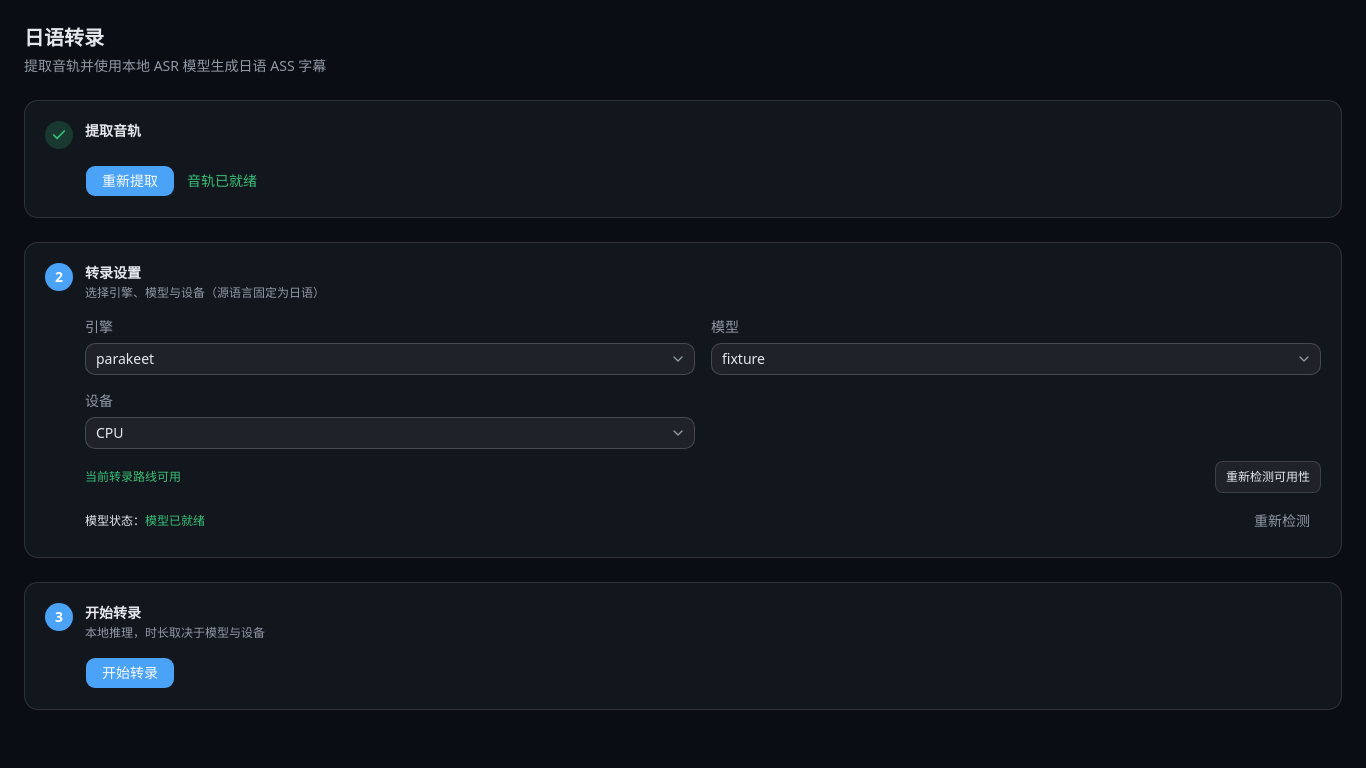
Scenario: TranscribeView Native ASR flow › installs and serializes completed parakeet results with VAD=false and its own display policy
Step 1. Click the button "开始转录" → {"x": 130, "y": 673}, box [85,657,175,689]
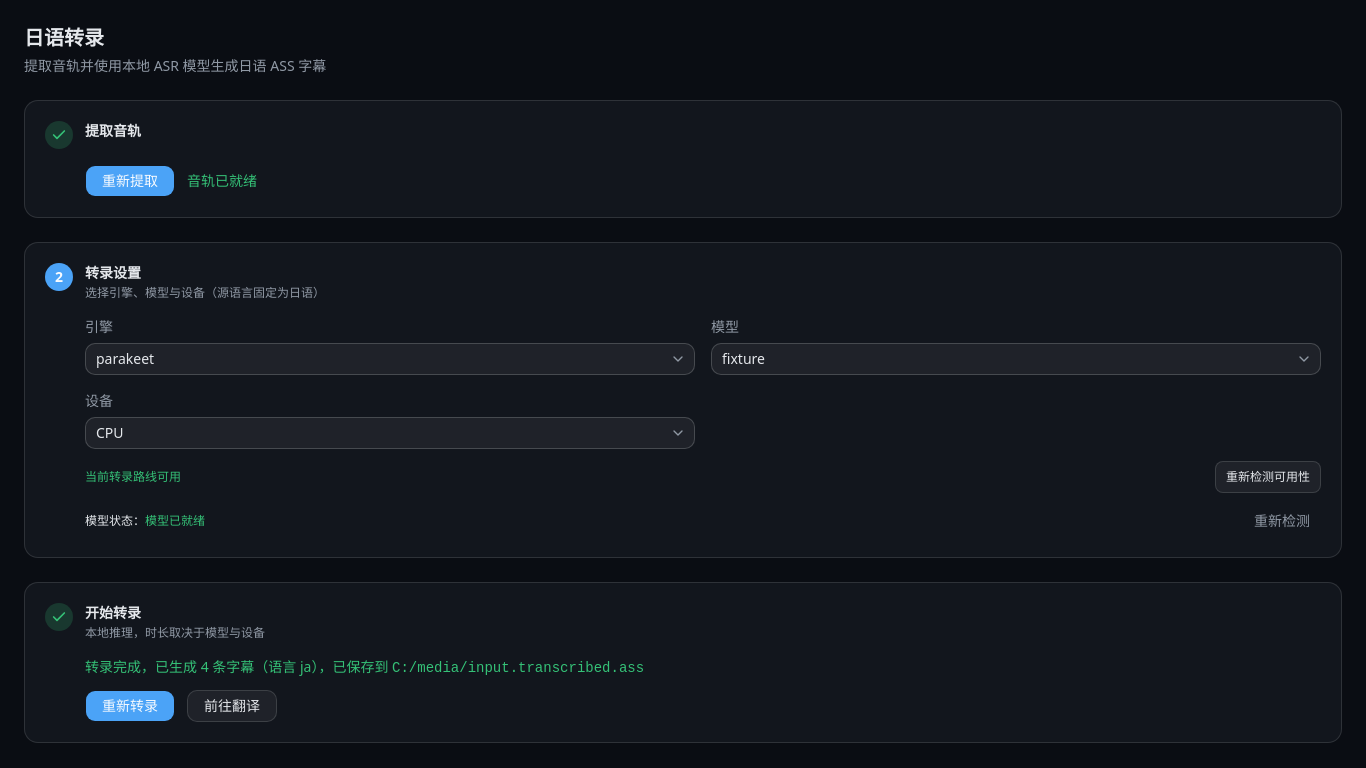
Expected: the text "C:/media/input.transcribed.ass" is shown, [392,660,644,676]
